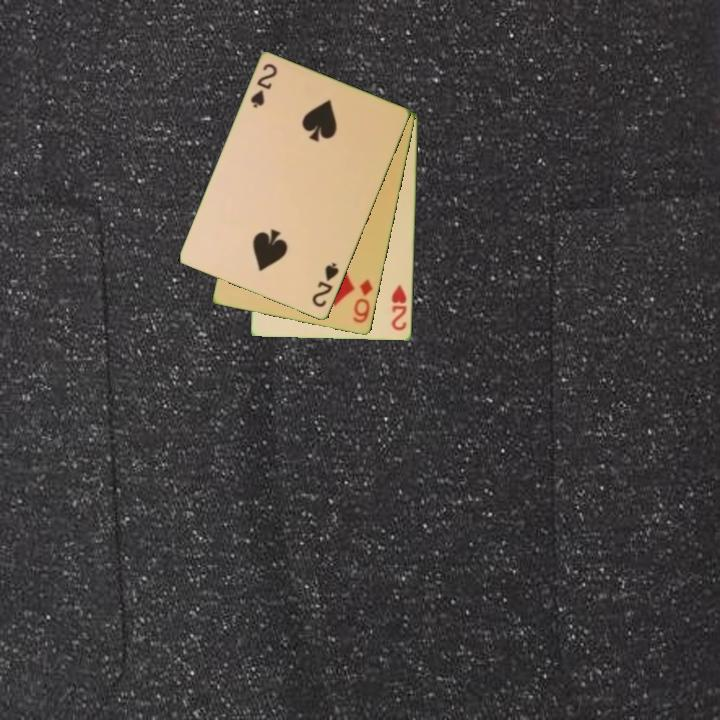2h: (389, 282, 410, 333)
2s: (308, 259, 342, 311), (247, 60, 281, 112)
6d: (350, 276, 376, 326)
